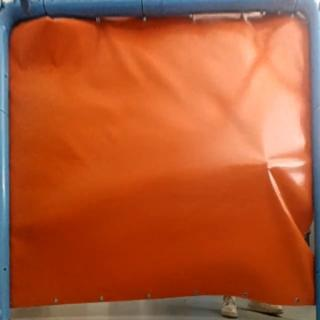Hit-hRxx: (262, 157, 272, 168)
